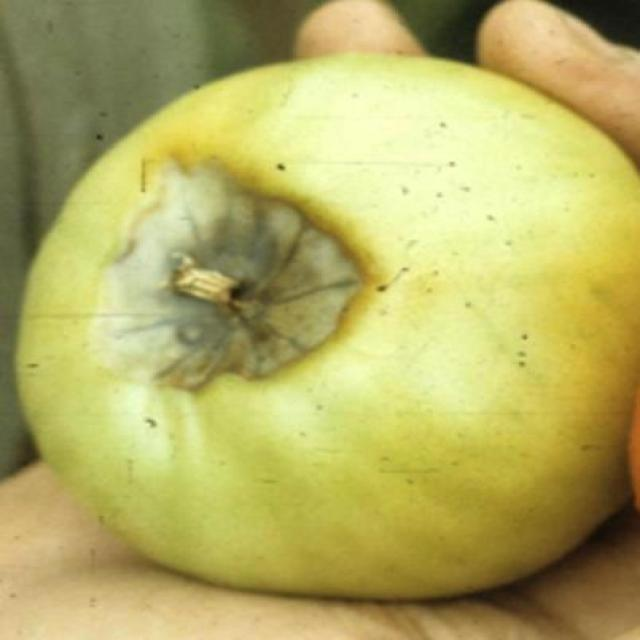Blossom End Rot Fruit: (65, 109, 244, 262)
